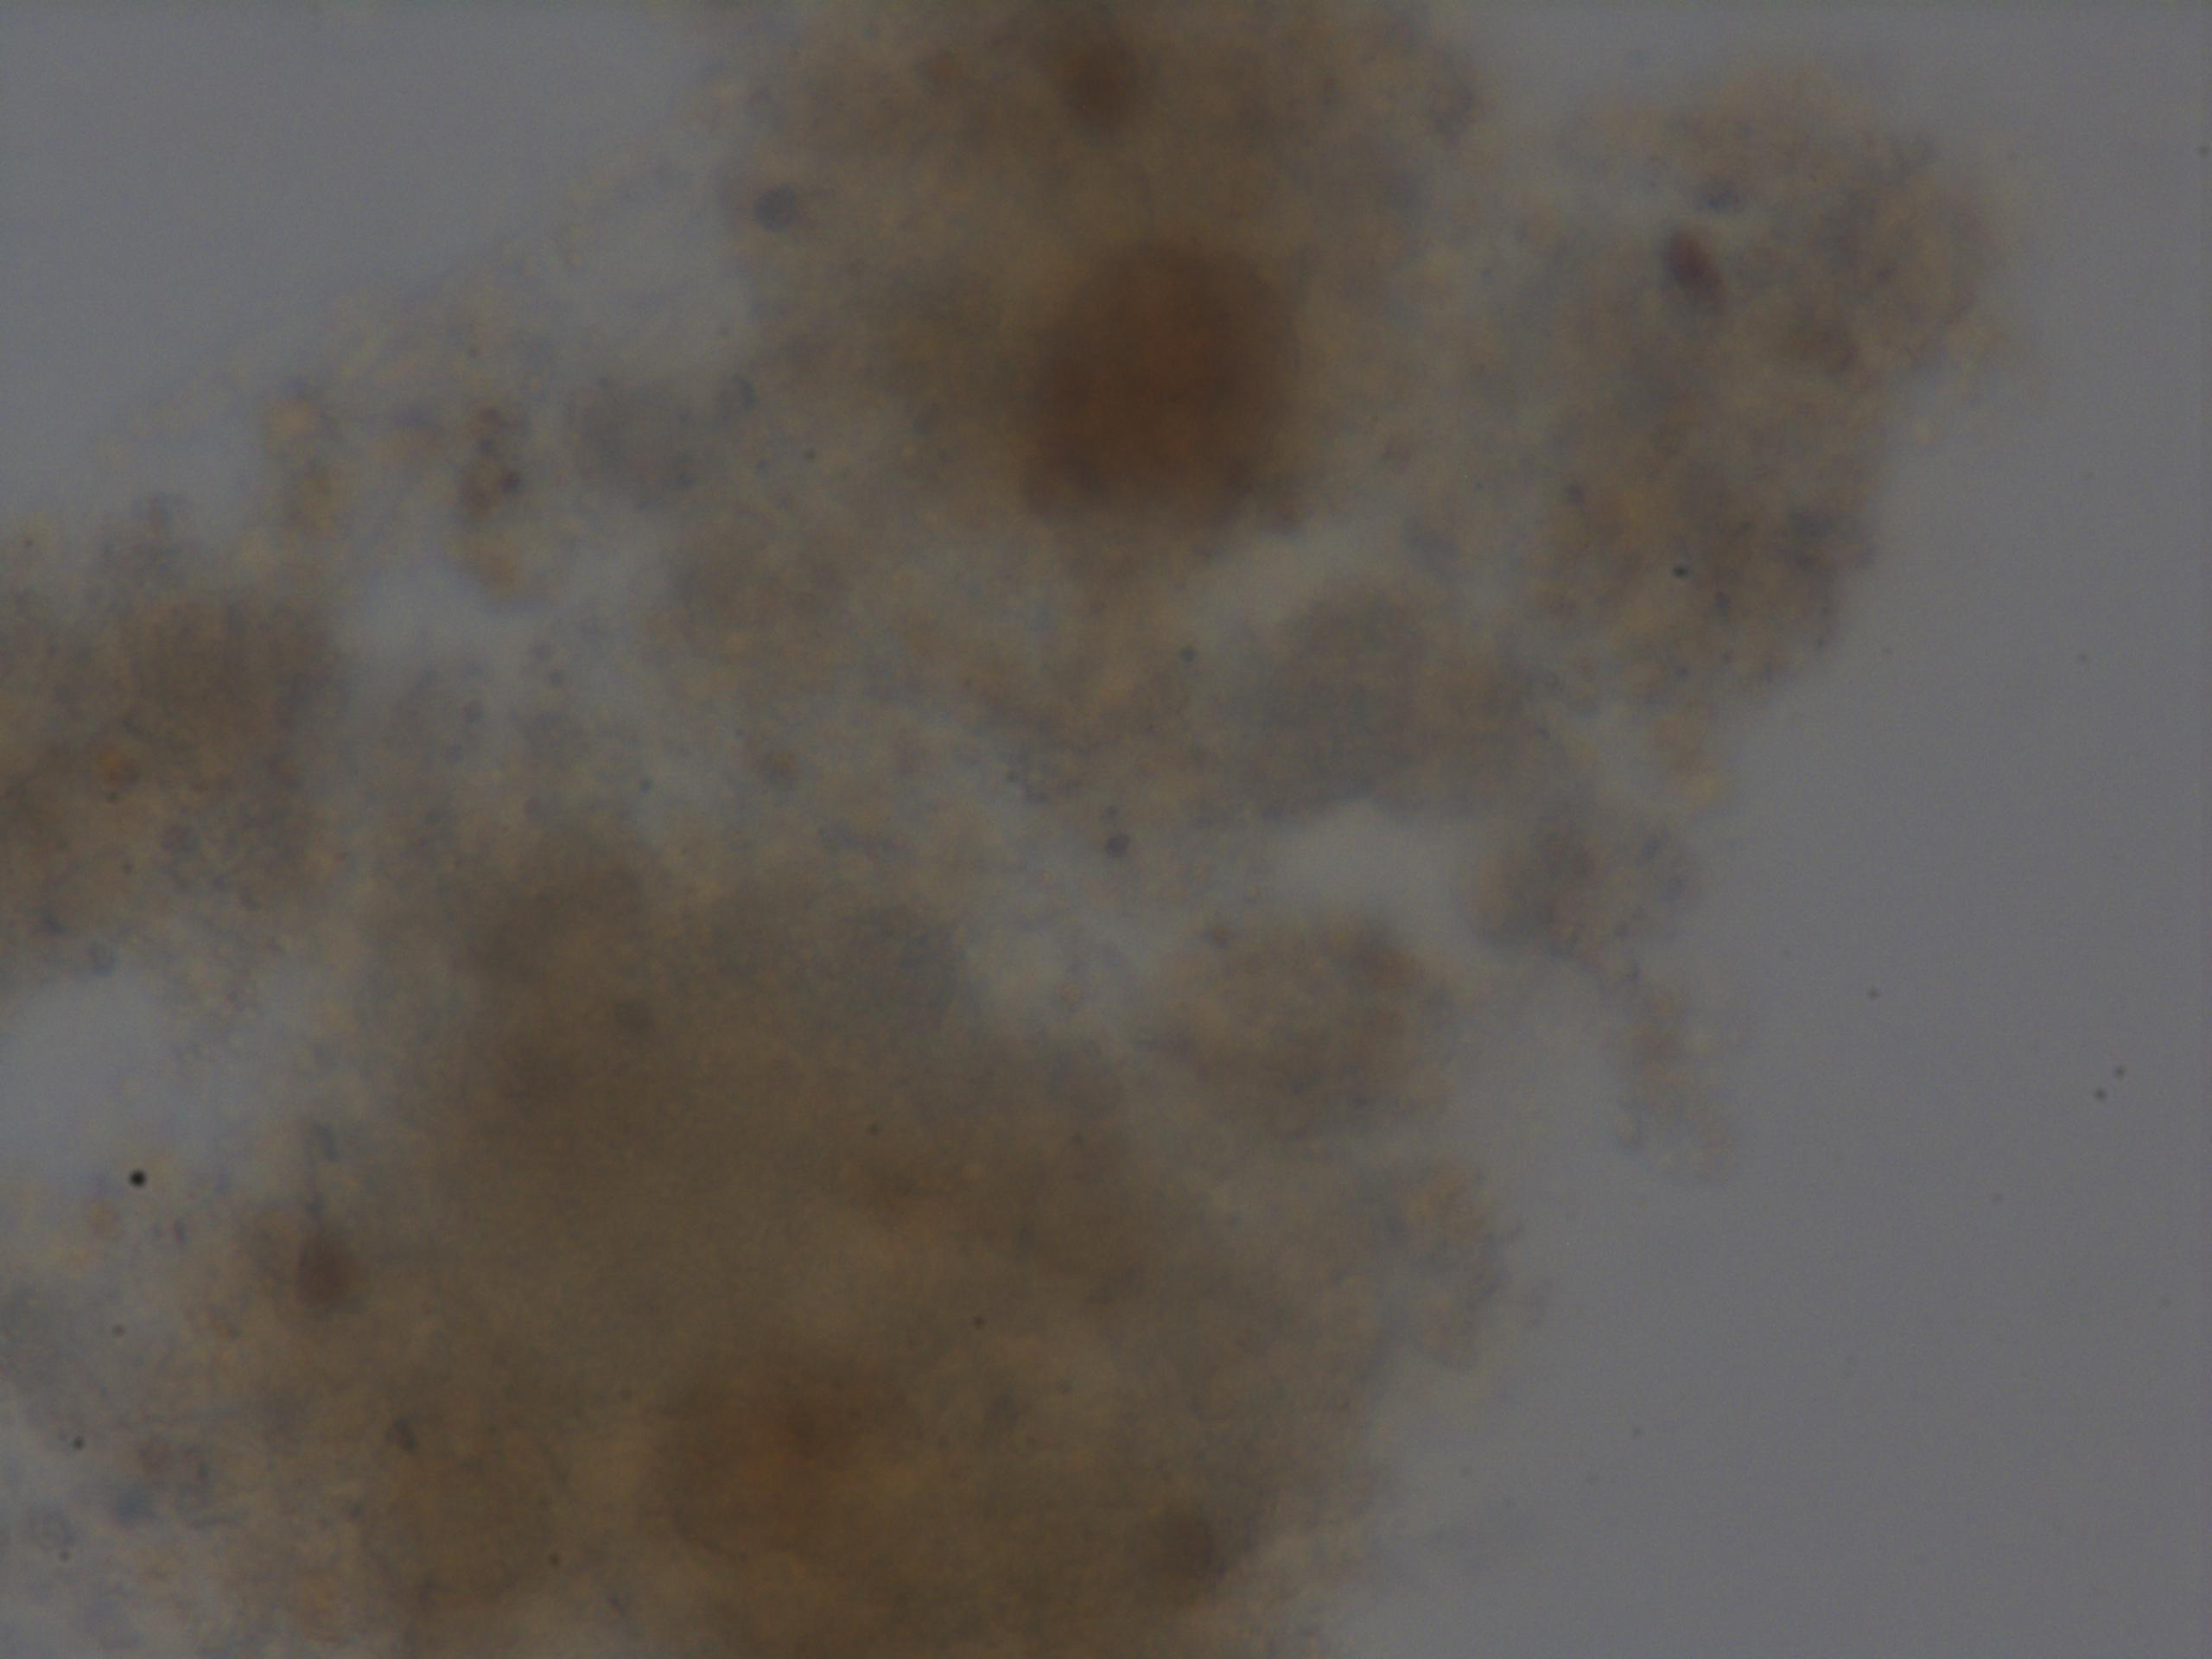open_floc: (0, 0, 2001, 1659)
